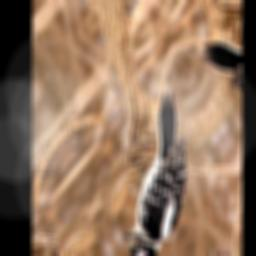Woodpecker: (90, 83, 224, 256)
